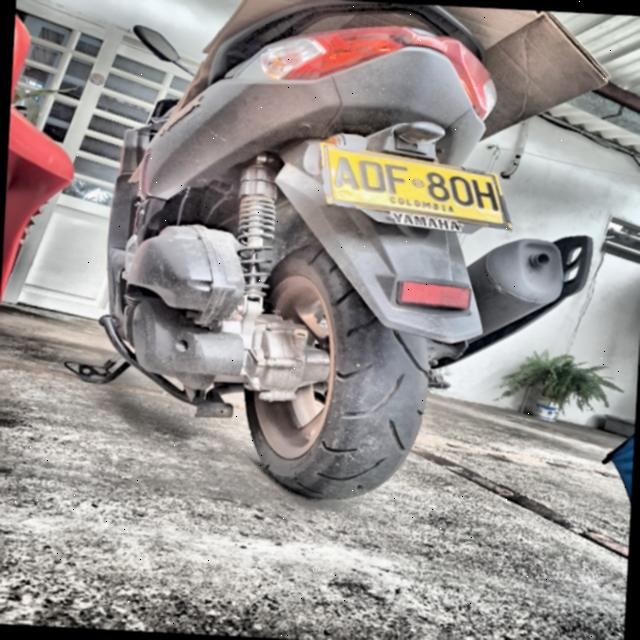0: (447, 175, 477, 208)
8: (424, 170, 453, 204)
A: (331, 155, 362, 191)
F: (383, 163, 411, 196)
H: (469, 178, 500, 212)
O: (356, 159, 388, 194)
